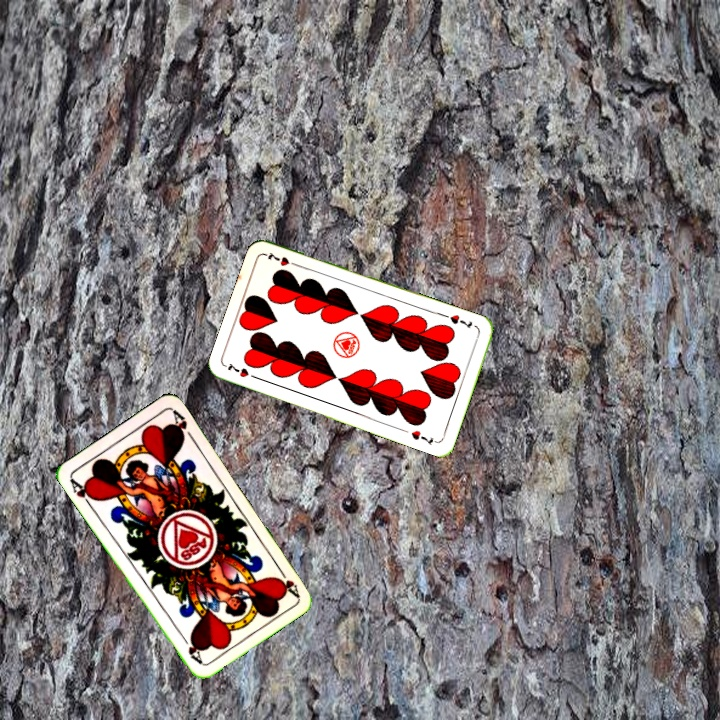H7: (222, 359, 261, 382), (446, 310, 475, 332)
HA: (66, 475, 98, 511), (273, 562, 302, 600)
